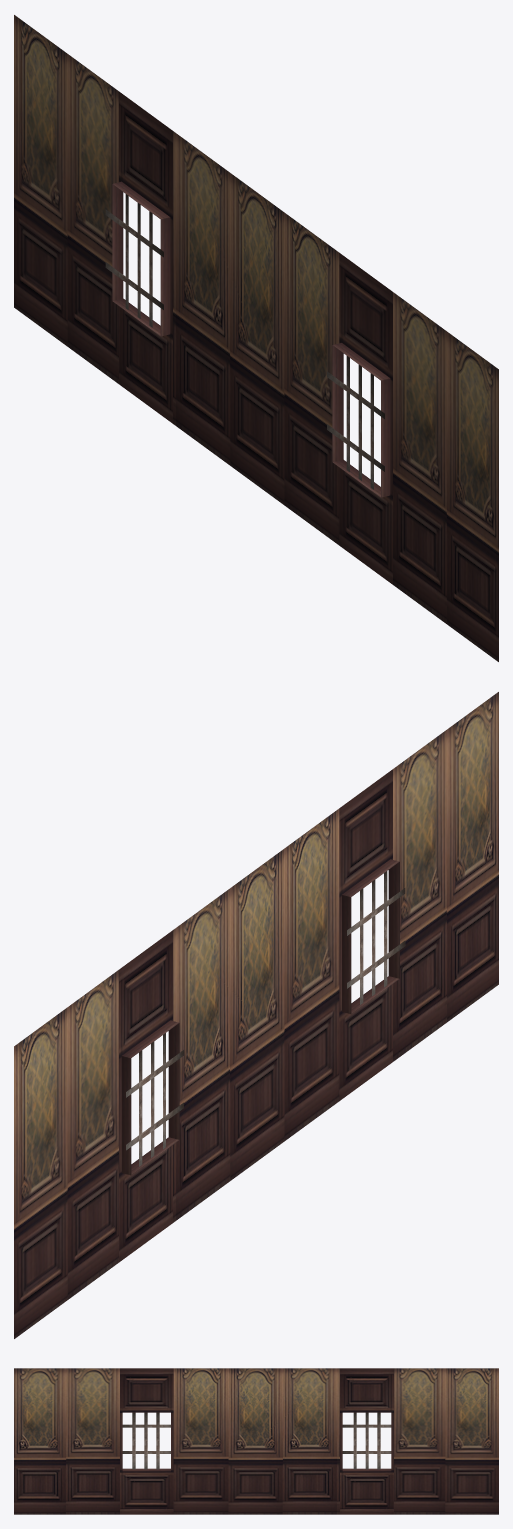
Rendered from wall_hall_hole_3.glb.
The picture shows the model from 3 angles, top to bottom: view 1: azimuth 30°, elevation 25°; view 2: azimuth 150°, elevation 25°; view 3: azimuth 270°, elevation 25°; orthographic projection. The views are drawn at different scales.
Parts seen in each view (by area): view 1: Piano, Piano.004, Piano.003, Piano.006, Piano.001, Piano.002, Piano.008; view 2: Piano, Piano.004, Piano.003, Piano.006, Piano.001, Piano.008, Piano.002; view 3: Piano, Piano.003, Piano.004, Piano.002, Piano.008, Piano.006, Piano.001.
Part boxes in pixels (x1,y1,x2,y2): Piano: (14, 15, 498, 661); Piano.004: (119, 91, 172, 423); Piano.003: (339, 253, 392, 584); Piano.006: (112, 181, 170, 336); Piano.001: (332, 343, 390, 497); Piano.002: (105, 194, 163, 327); Piano.008: (327, 356, 384, 489); Piano: (14, 692, 498, 1338); Piano.004: (119, 930, 172, 1262); Piano.003: (339, 769, 392, 1100); Piano.006: (121, 1020, 179, 1175); Piano.001: (342, 859, 399, 1014); Piano.008: (347, 871, 405, 1004); Piano.002: (126, 1033, 183, 1166); Piano: (14, 1368, 498, 1514); Piano.003: (120, 1368, 173, 1514); Piano.004: (340, 1368, 393, 1514); Piano.002: (342, 1412, 391, 1469); Piano.008: (122, 1412, 170, 1469); Piano.006: (342, 1412, 391, 1471); Piano.001: (122, 1412, 170, 1471).
Size of the model in its own units: 0.21 by 5 by 15.
Materials: 7 (7 with a texture image).
